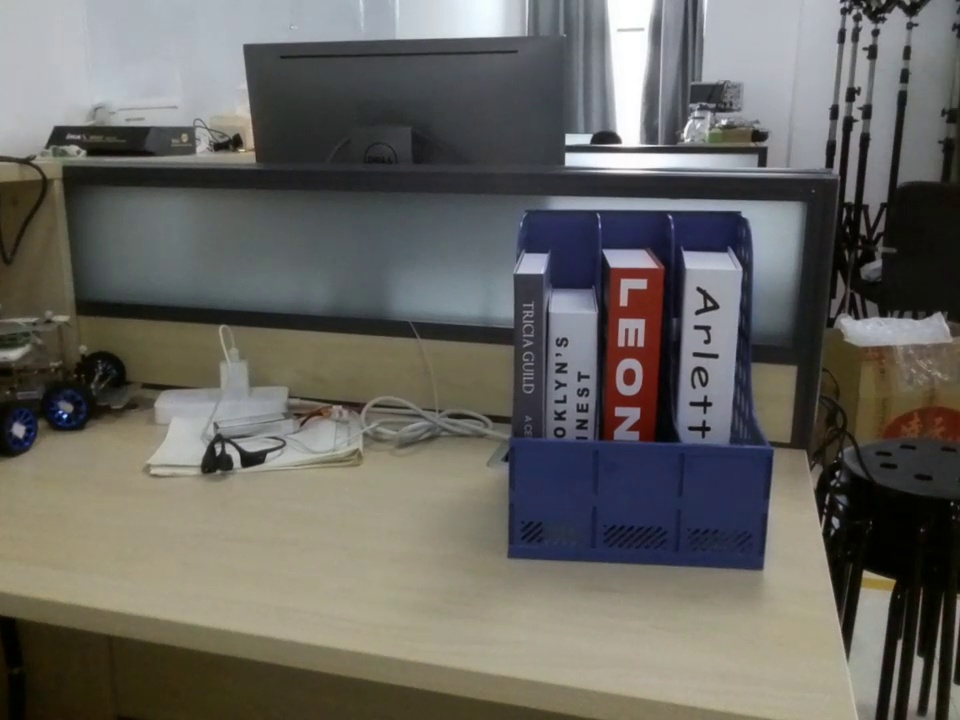files: (505, 203, 785, 577)
